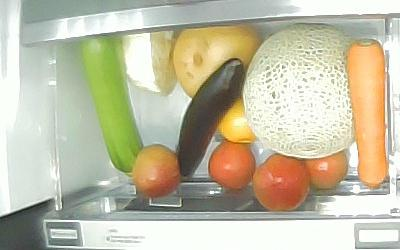cabbage: (121, 32, 177, 96)
carrot: (346, 39, 390, 189)
eggplant: (176, 57, 243, 176)
melon: (244, 23, 356, 158)
pear: (173, 27, 264, 100)
prune: (251, 153, 313, 212), (133, 144, 181, 198), (207, 140, 257, 189)
tangerine: (219, 100, 257, 143)
tomato: (304, 149, 349, 192)
zucchini: (79, 37, 148, 175)
